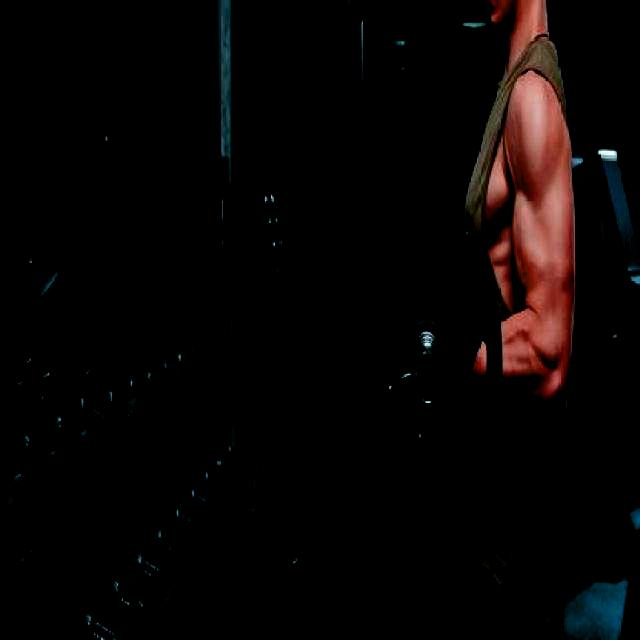barbell: (352, 197, 507, 532)
